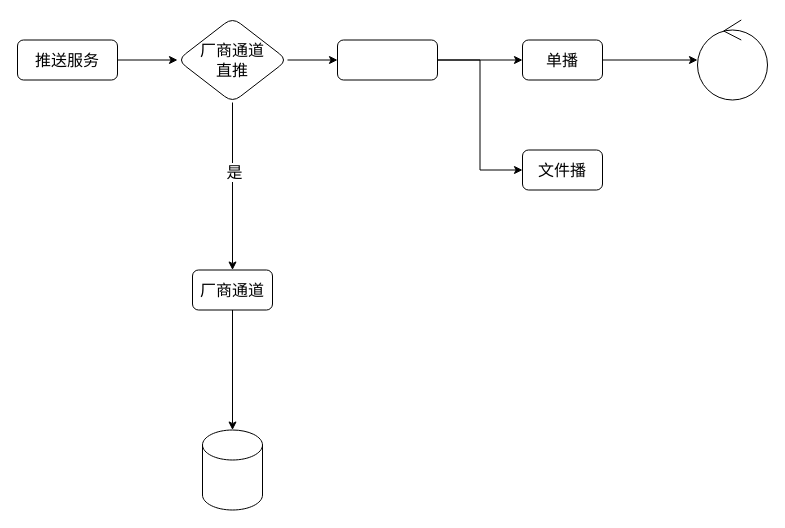
The diagram is 785 pixels wide and 528 high, and some of its shapes have lost their labels. Each missing label, with the centre of its shape:
"使用友盟" belongs at point 387,59.
"自检 重发" belongs at point 732,59.
